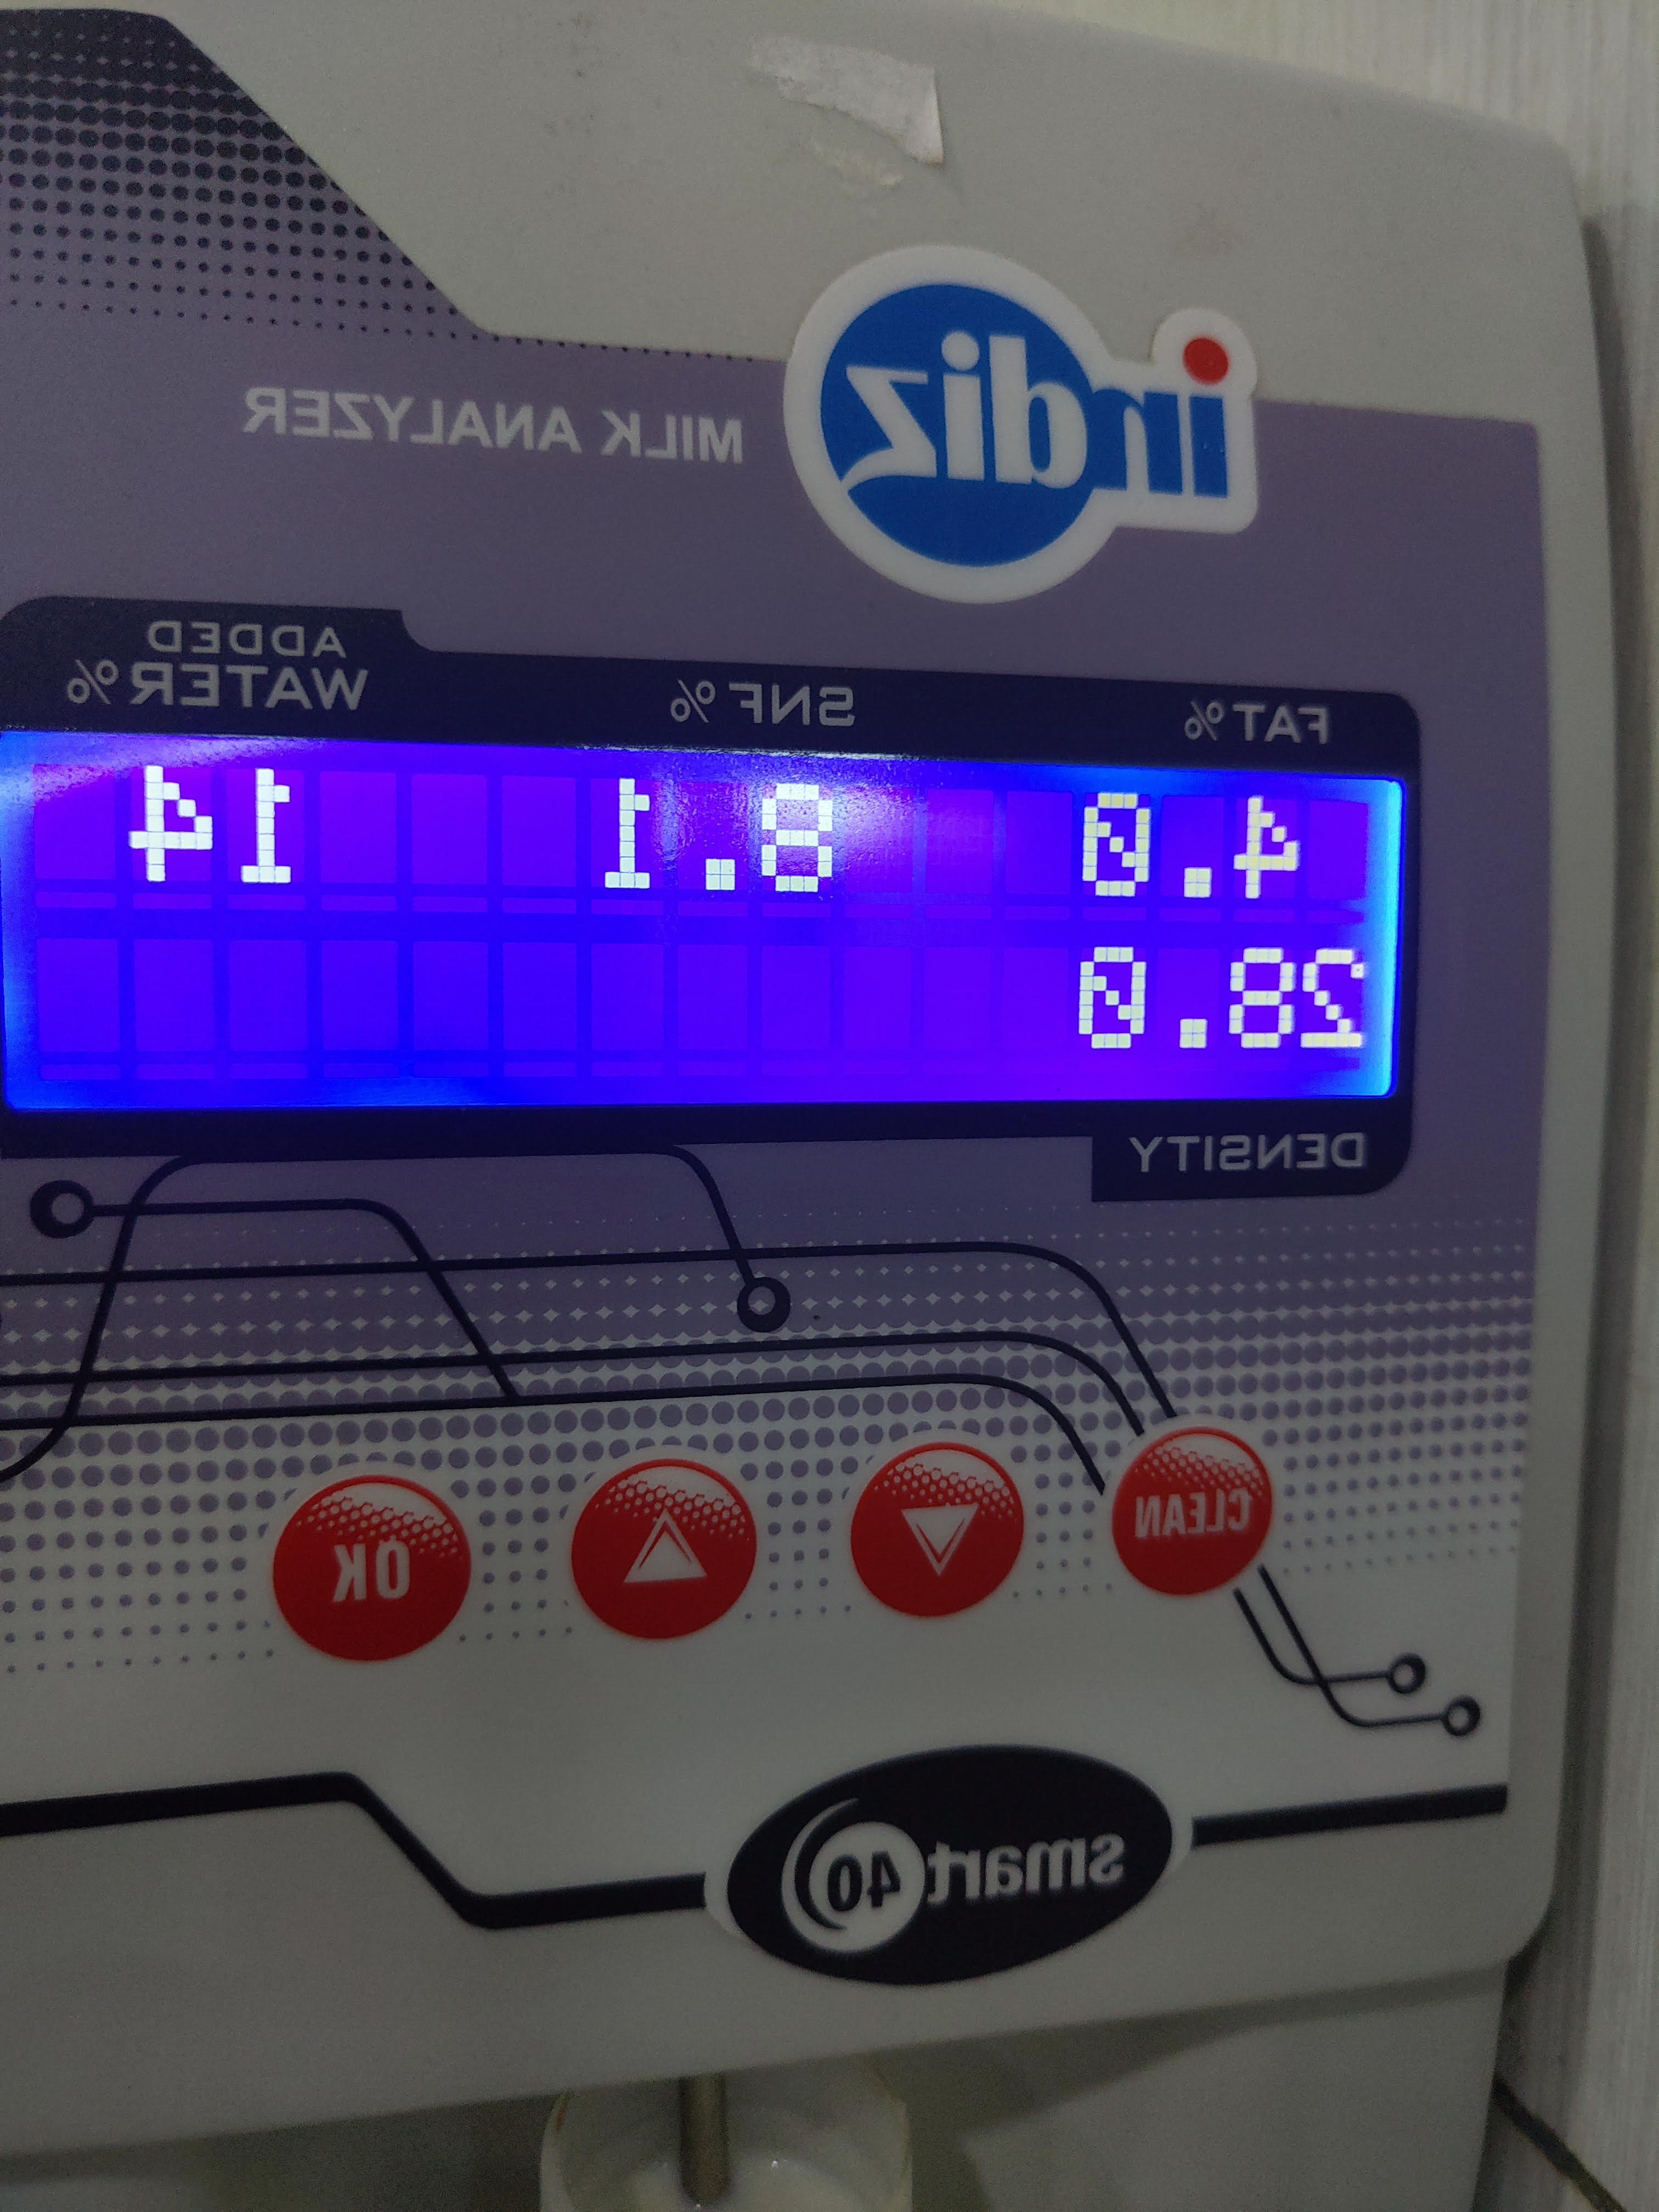lcd: (0, 716, 1408, 1113)
